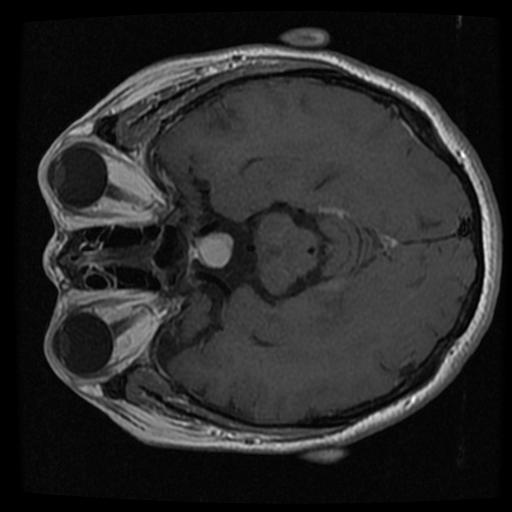pituitary tumour: (191, 233, 234, 267)
